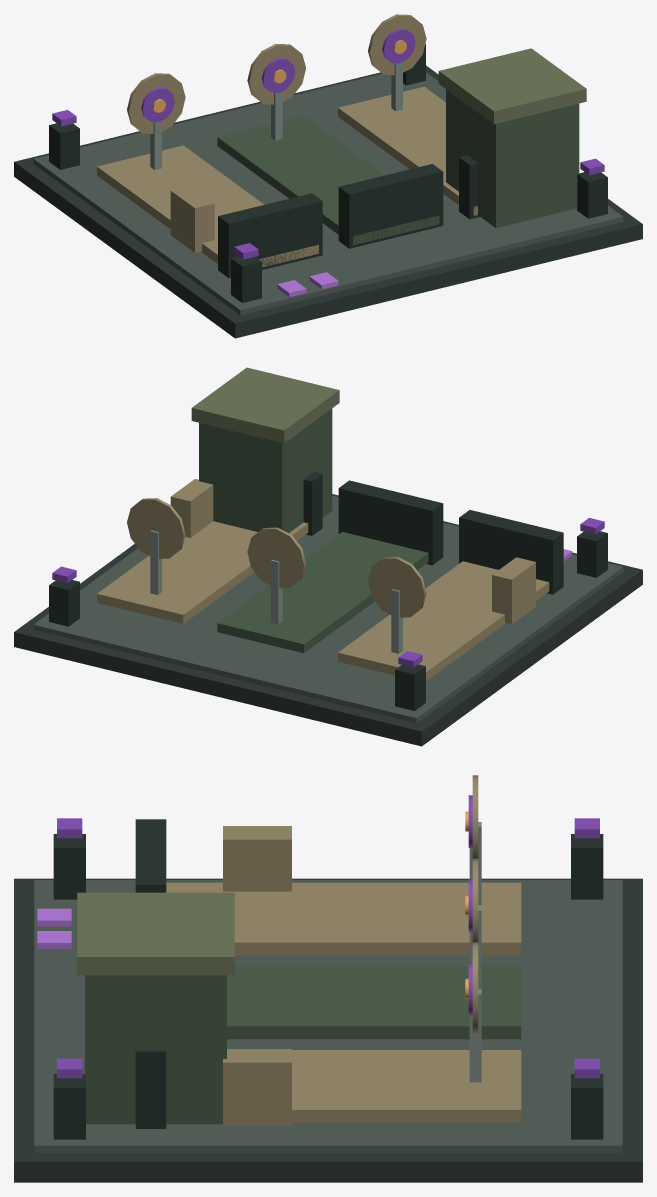
File: ridgewatch_l02.glb
3 views of the same model, one above another, from view 1: azimuth 30°, elevation 25°; view 2: azimuth 150°, elevation 25°; view 3: azimuth 270°, elevation 25° (orthographic). The views are drawn at different scales.
Visible parts, largest first — view 1: ridgewatch_l02; view 2: ridgewatch_l02; view 3: ridgewatch_l02.
Boxes of the visible parts, x1,y1,x2,y2 form: ridgewatch_l02: [14, 14, 642, 338]; ridgewatch_l02: [14, 367, 642, 746]; ridgewatch_l02: [14, 775, 642, 1182].
Size of the model in its own units: 6.6 by 2.2 by 6.2.
